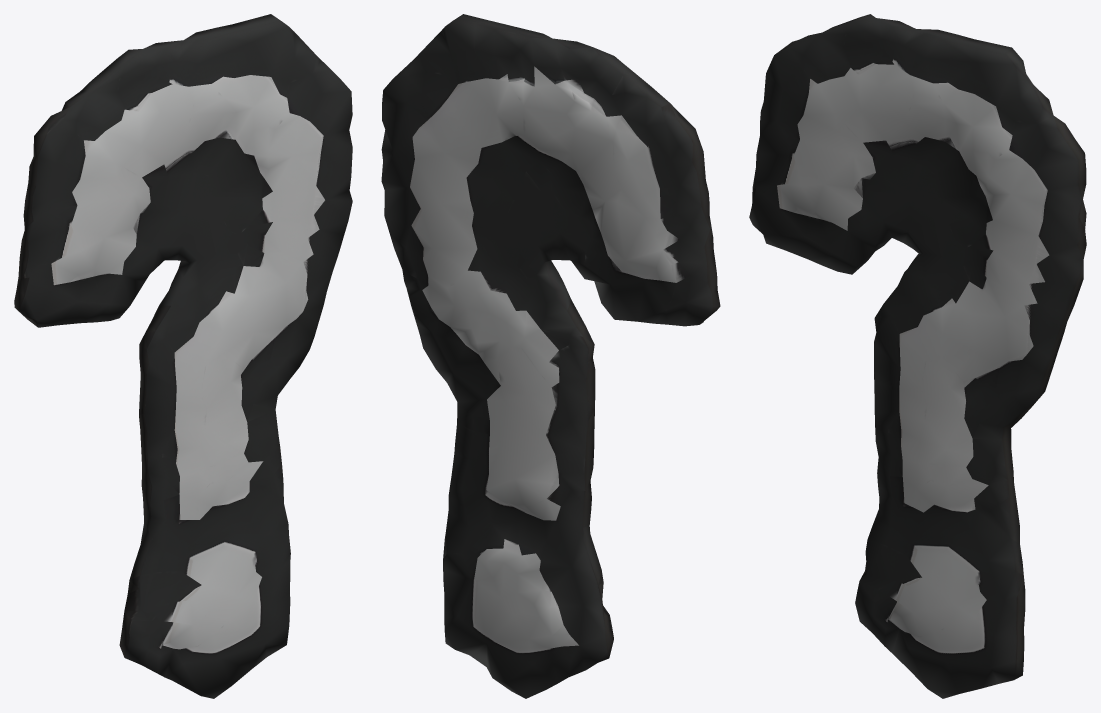
Rendered from Question.obj.
The picture shows the model from 3 angles, left to right: view 1: azimuth 30°, elevation 25°; view 2: azimuth 150°, elevation 25°; view 3: azimuth 330°, elevation 25°; orthographic projection.
Bounding box in the file's own units: 0.3111 × 0.5929 × 0.0262.
Materials: 1 (1 with a texture image).
